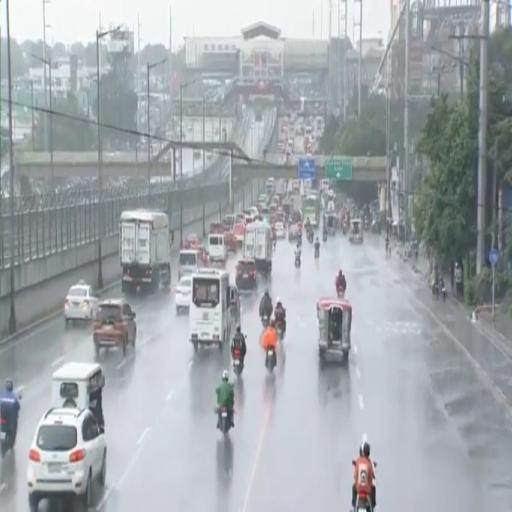bus: (189, 268, 235, 349), (302, 195, 320, 227)
car: (27, 408, 106, 511), (93, 299, 136, 357), (64, 281, 98, 325), (178, 247, 207, 279), (236, 260, 257, 291), (176, 277, 191, 312), (184, 234, 200, 249), (288, 223, 300, 241), (275, 222, 285, 238), (248, 206, 259, 217), (257, 195, 267, 206)
motorcycle: (0, 399, 17, 457), (354, 492, 373, 511), (219, 407, 231, 435), (233, 348, 243, 375), (265, 348, 276, 372), (438, 279, 446, 301), (276, 322, 284, 340), (336, 284, 345, 298), (432, 282, 439, 299), (261, 315, 269, 328), (307, 229, 314, 243), (295, 256, 300, 267), (342, 223, 347, 234), (315, 246, 319, 259), (298, 235, 302, 247), (323, 232, 327, 242)
truck: (120, 210, 170, 293), (243, 221, 272, 276)
